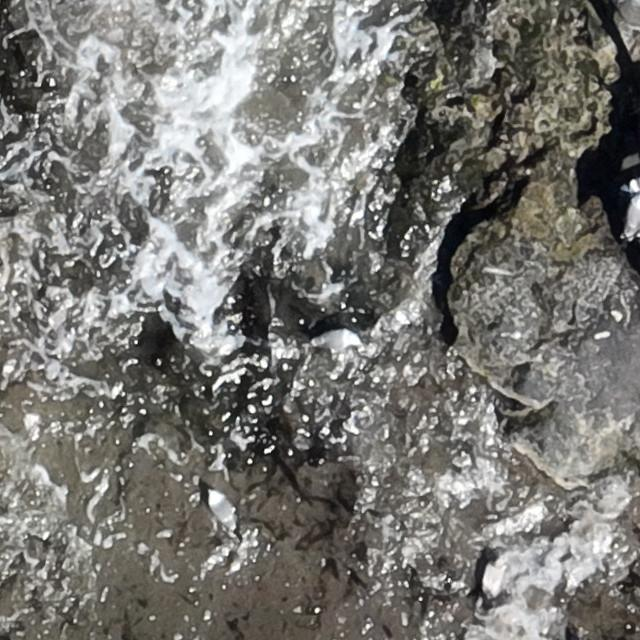umineko: (210, 494, 237, 531), (315, 330, 355, 349)
